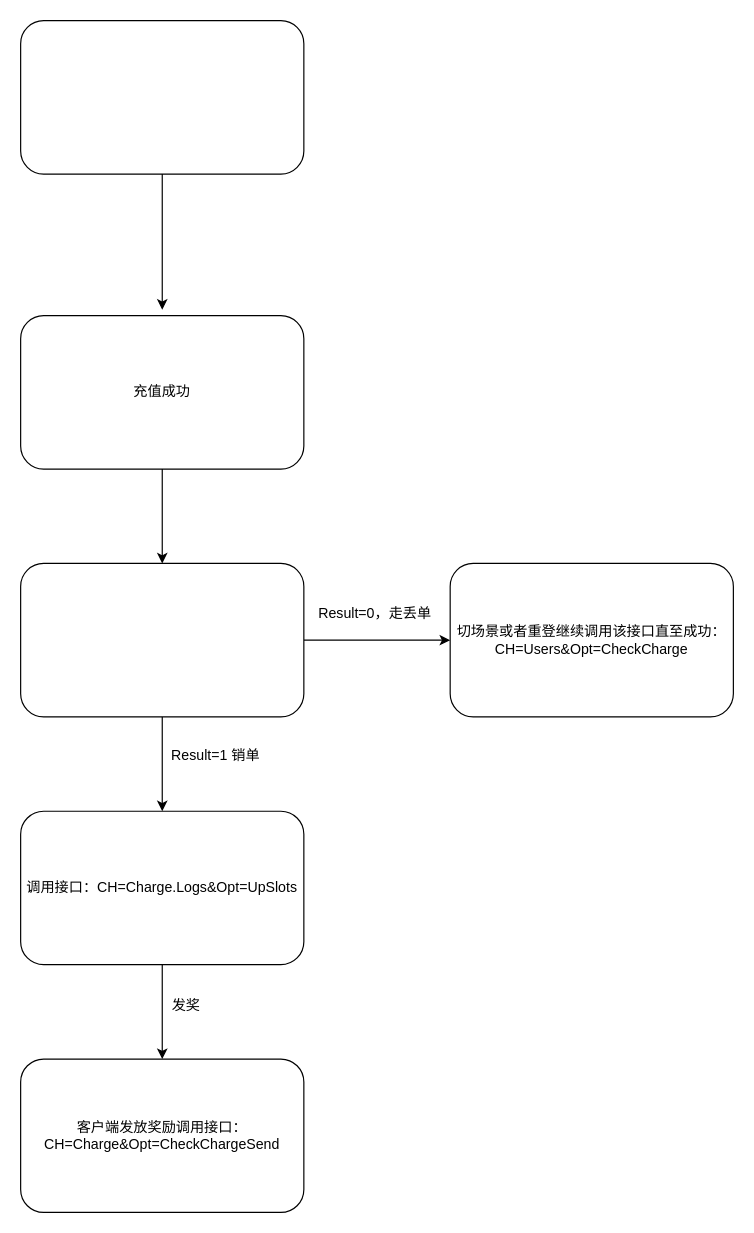
The diagram is 754 pixels wide and 1233 high, and some of its shapes have lost their labels. Here are the shapes that lost their labels. From the top down, the centre of each, then its label:
At (161,96): "客户端调充值接口".
At (161,639): "调用接口：CH=Users&Opt=CheckCharge".
